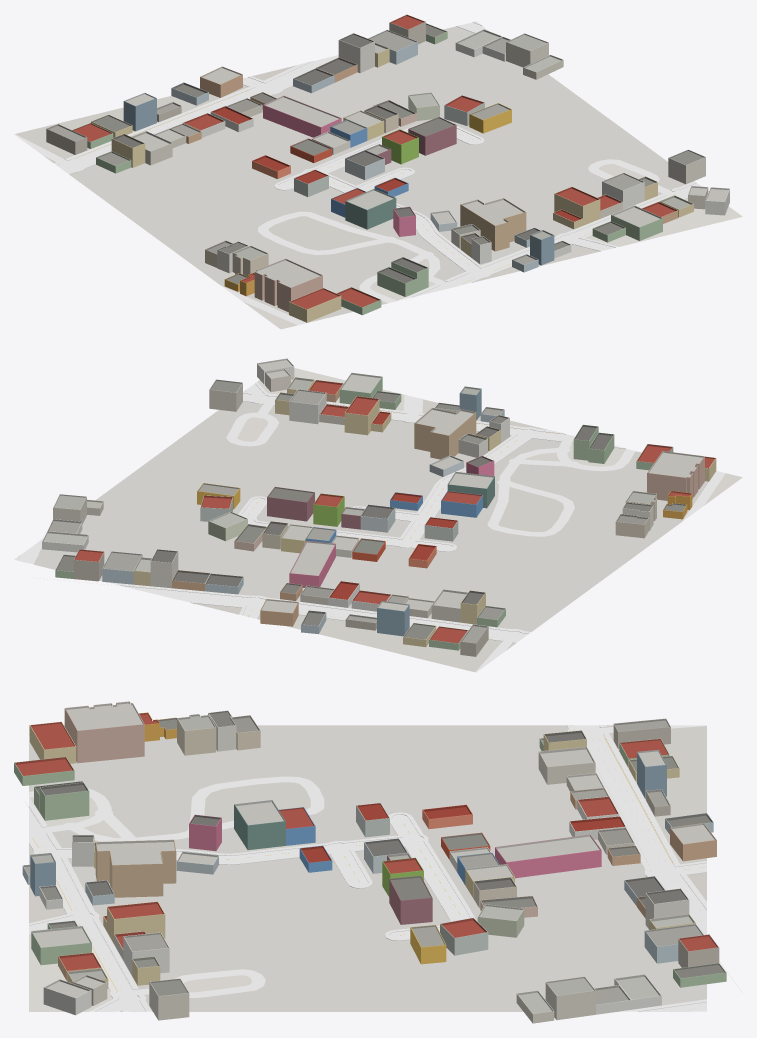
The picture shows the model from 3 angles, top to bottom: view 1: azimuth 30°, elevation 25°; view 2: azimuth 150°, elevation 25°; view 3: azimuth 270°, elevation 25°; orthographic projection. The views are drawn at different scales.
Visible parts, largest first — view 1: ground, walls, roofs, asphalt, sidewalk; view 2: ground, walls, roofs, asphalt, sidewalk; view 3: ground, walls, roofs, asphalt, sidewalk, markings.
Part boxes in pixels (<box>): ground: <box>15,26,742,329</box>; walls: <box>46,22,729,322</box>; roofs: <box>46,14,729,309</box>; asphalt: <box>14,22,708,329</box>; sidewalk: <box>54,21,708,300</box>; ground: <box>34,368,742,672</box>; walls: <box>42,363,716,656</box>; roofs: <box>42,358,715,643</box>; asphalt: <box>18,384,742,672</box>; sidewalk: <box>14,382,625,642</box>; ground: <box>29,725,706,1011</box>; walls: <box>14,703,726,1023</box>; roofs: <box>14,701,725,1013</box>; asphalt: <box>29,725,706,1011</box>; sidewalk: <box>29,725,706,1011</box>; markings: <box>25,738,742,1012</box>.
Size of what is drawn, in the model's own units: 260 by 13.22 by 269.
